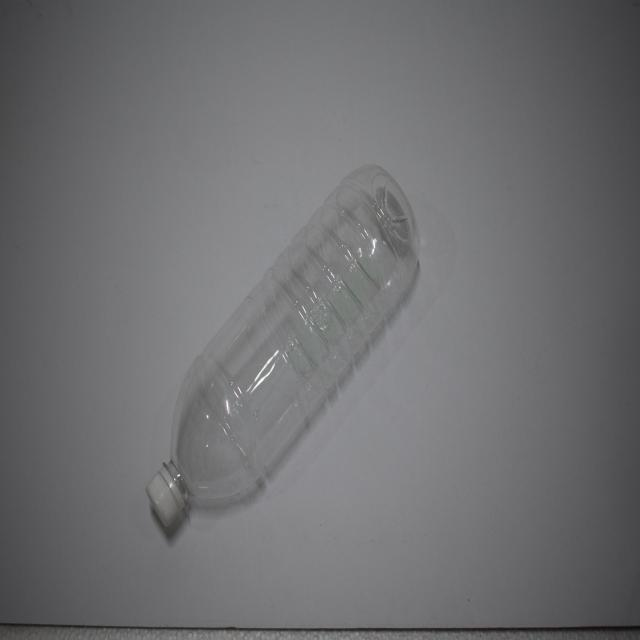bottle: (134, 164, 432, 544)
